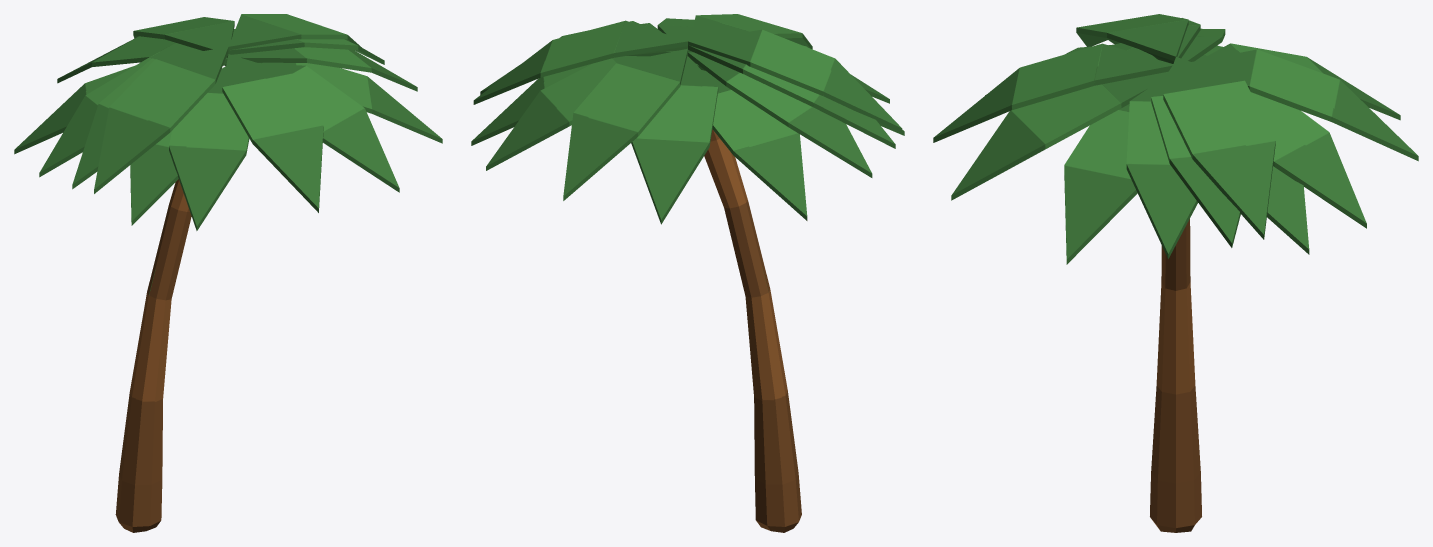
The model's file is strom-palma.fbx.
The picture shows the model from 3 angles, left to right: view 1: azimuth 30°, elevation 25°; view 2: azimuth 150°, elevation 25°; view 3: azimuth 270°, elevation 25°; orthographic projection. The views are drawn at different scales.
Visible parts, largest first — view 1: palmTree; view 2: palmTree; view 3: palmTree.
Part boxes in pixels (bbox=[...]): palmTree: bbox=[14, 14, 442, 532]; palmTree: bbox=[471, 14, 904, 532]; palmTree: bbox=[933, 14, 1418, 532].
Size of the model in its own units: 1613 by 1894 by 1608.
1 material, 1 textured.
